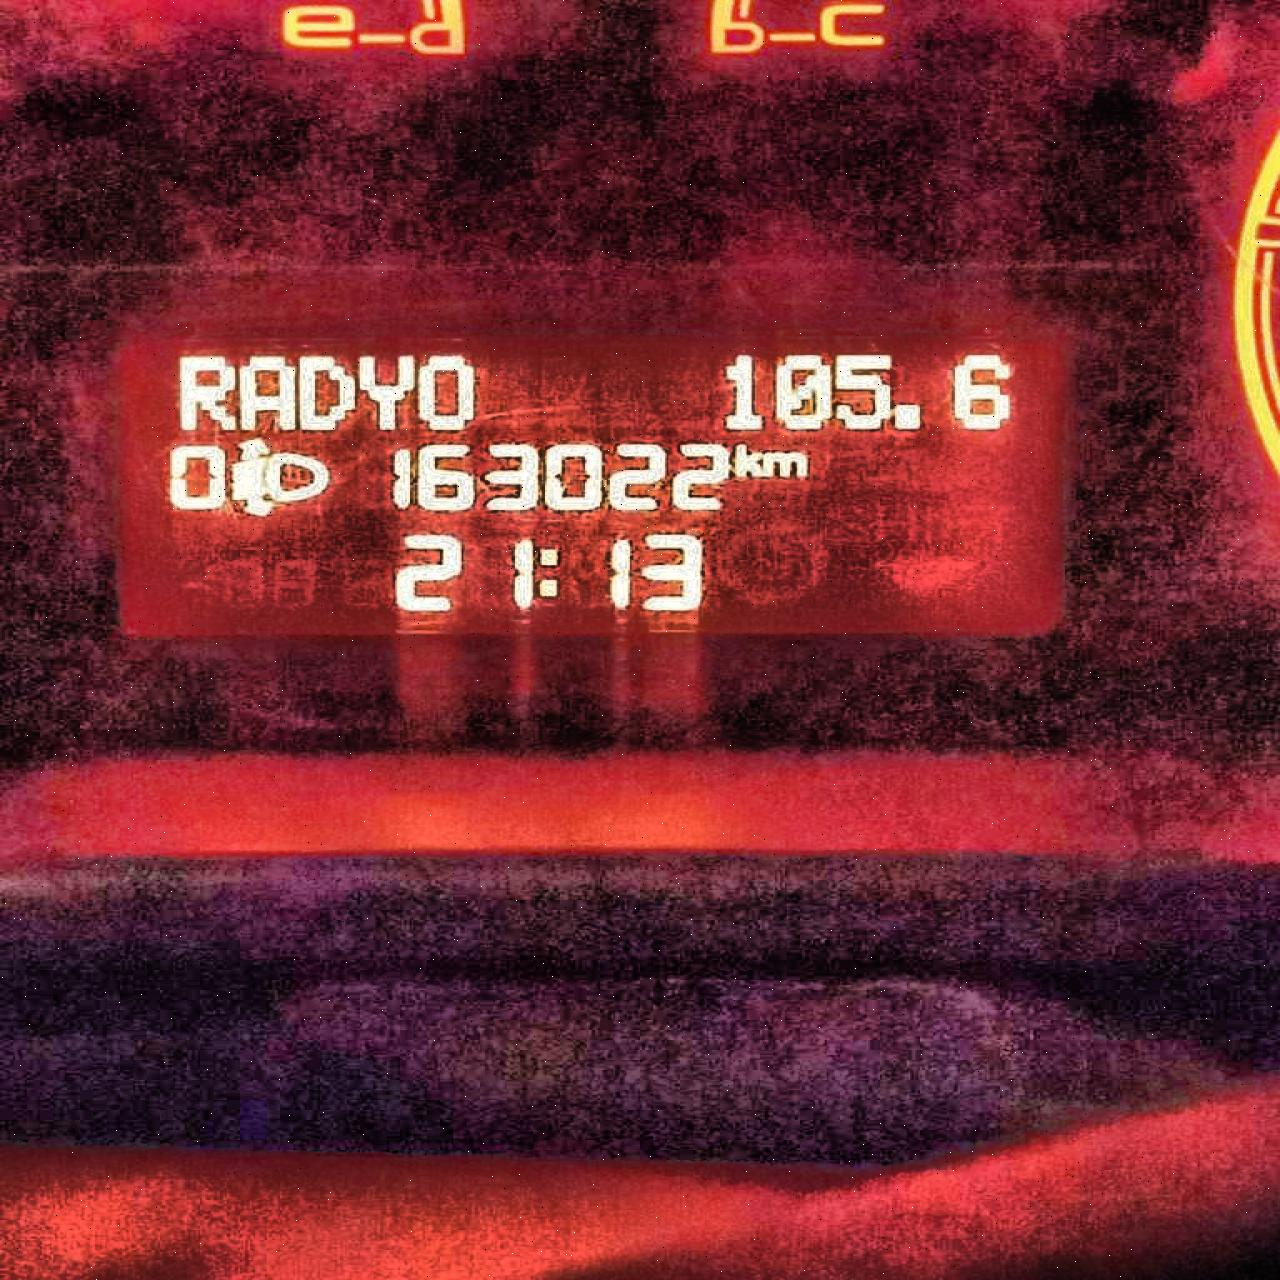-: (896, 399, 930, 440)
0: (161, 440, 232, 515), (767, 349, 829, 435), (538, 436, 604, 515)
1: (716, 343, 763, 435), (600, 532, 639, 612), (375, 443, 411, 511), (504, 532, 533, 612)
2: (387, 527, 465, 617), (668, 436, 730, 513), (604, 440, 665, 515)
3: (639, 529, 708, 617), (483, 436, 535, 515)
5: (832, 347, 896, 438)
6: (945, 347, 1015, 433), (417, 440, 481, 515)
X: (408, 350, 482, 435), (170, 348, 234, 434), (233, 347, 297, 434), (295, 347, 356, 434), (355, 349, 411, 435), (533, 543, 565, 601), (760, 448, 810, 482), (726, 438, 762, 482)
odometer: (97, 318, 1078, 653)
